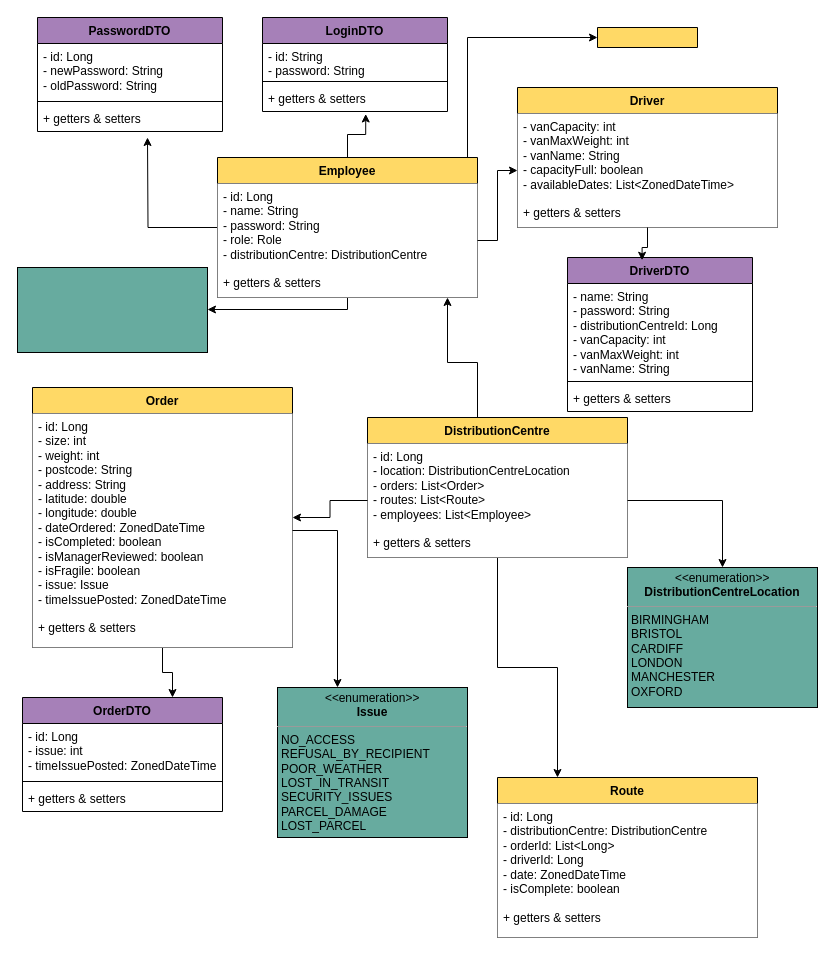
Image size: 835x958. Some labels were removed from this diagram. The centre of each missing label's shape, as x and y in pixels:
<< enumeration >> Role MANAGER DRIVER: the point at 112,309
Manager: the point at 647,37
